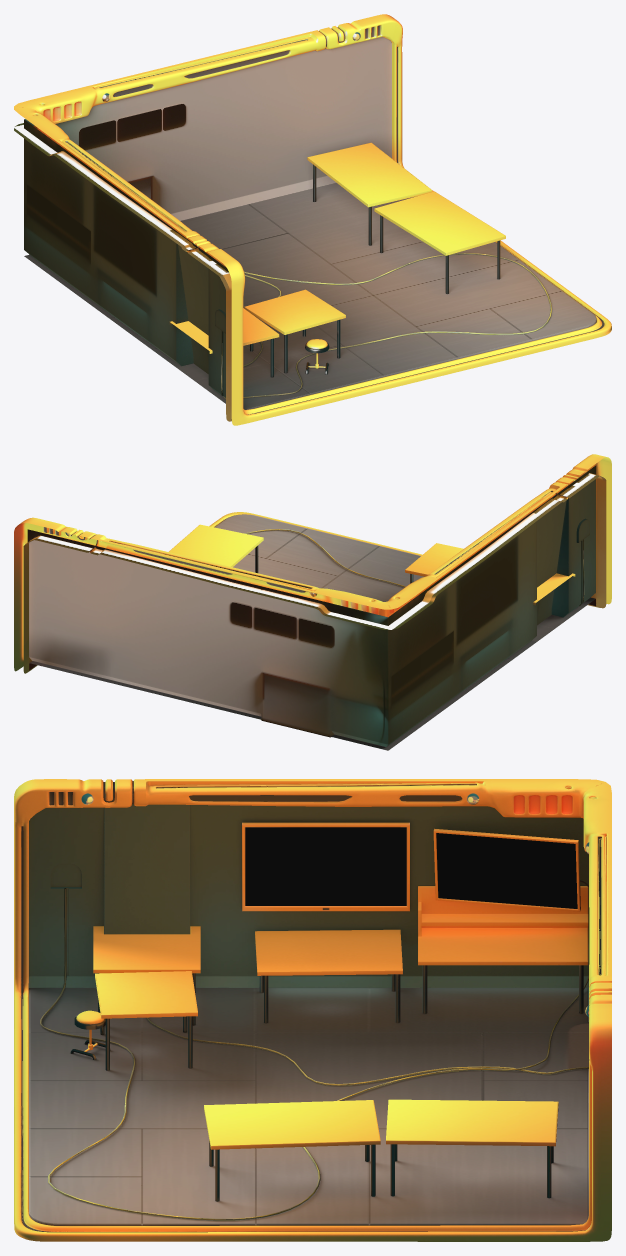
Rendered from room.ffda7d2b.glb.
3 renders of one model, top to bottom at view 1: azimuth 30°, elevation 25°; view 2: azimuth 150°, elevation 25°; view 3: azimuth 270°, elevation 25°, orthographic. The views are drawn at different scales.
Parts seen in each view (by area): view 1: Walls_lp, Floor_lp, Room_lp, Table03_lp, Table02_lp, Table04_lp, Cable02_lp, Table05_lp; view 2: Walls_lp, Room_lp, Floor_lp, Table03_lp, Table04_lp, Table05_lp; view 3: Floor_lp, Walls_lp, Room_lp, Monitor01_lp, Table01_lp, Monitor02_lp, Table03_lp, Table02_lp, Table06_lp, Table04_lp, Table05_lp, Cable02_lp (+2 smaller).
Part boxes in pixels (x1,y1,x2,y2): Walls_lp: [24, 37, 391, 397]; Floor_lp: [24, 183, 596, 409]; Room_lp: [14, 14, 611, 425]; Table03_lp: [374, 191, 505, 293]; Table02_lp: [307, 142, 431, 245]; Table04_lp: [244, 289, 345, 373]; Cable02_lp: [221, 253, 551, 399]; Table05_lp: [169, 308, 279, 377]; Walls_lp: [27, 465, 596, 746]; Room_lp: [14, 454, 611, 673]; Floor_lp: [29, 514, 595, 750]; Table03_lp: [169, 524, 263, 573]; Table04_lp: [405, 543, 463, 583]; Table05_lp: [533, 573, 575, 605]; Floor_lp: [29, 988, 589, 1225]; Walls_lp: [28, 803, 589, 1218]; Room_lp: [14, 779, 611, 1241]; Monitor01_lp: [242, 822, 409, 911]; Table01_lp: [418, 886, 588, 1013]; Monitor02_lp: [433, 828, 580, 911]; Table03_lp: [204, 1100, 380, 1201]; Table02_lp: [386, 1099, 558, 1198]; Table06_lp: [255, 929, 402, 1023]; Table04_lp: [95, 971, 197, 1070]; Table05_lp: [93, 926, 200, 1025]; Cable02_lp: [40, 879, 588, 1220].
Size of what is drawn, in the model's own units: 4.1 by 1.59 by 4.1.
4 materials, 4 textured.
